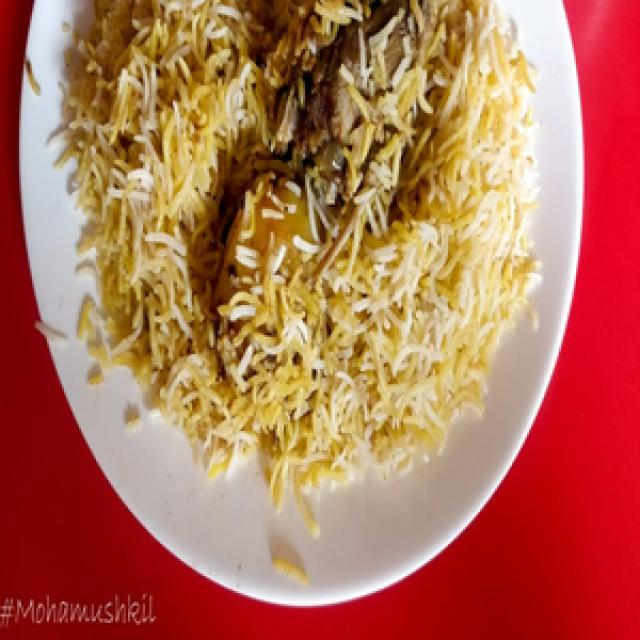chicken biriyani: (35, 0, 563, 527)
